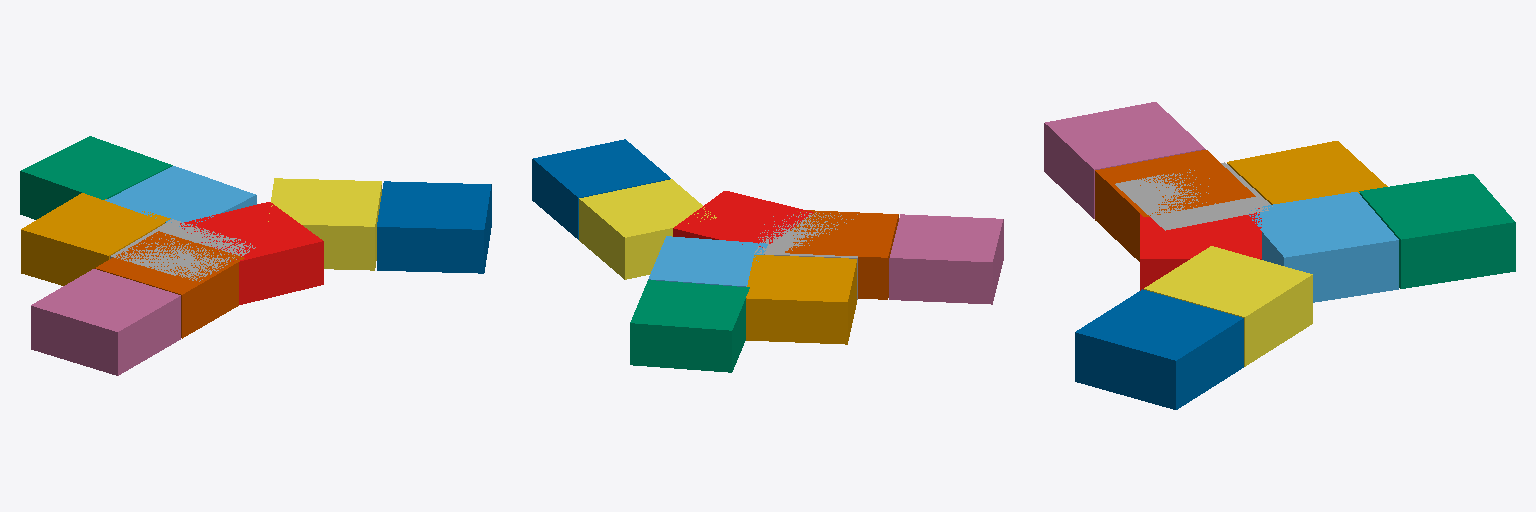
URDF robot description (Model_Models/Model_186.urdf8):
<?xml version='1.0' encoding='UTF-8'?>
<robot name="Model_Models/Model_186.urdf8">
  <link name="base_link">
    <inertial>
      <origin xyz="0.0 0.0 0.0" rpy="0.0 -0.0 0.0"/>
      <mass value="1.0"/>
      <inertia ixx="1.0" ixy="0.0" ixz="0.0" iyy="1.0" iyz="0.0" izz="1.0"/>
    </inertial>
    <visual>
      <geometry>
        <box size="0.67 0.67 0.3 "/>
      </geometry>
      <material name="red"/>
      <origin xyz="0.0 0.0 0.0" rpy="0.0 -0.0 0.0"/>
    </visual>
    <collision>
      <geometry>
        <box size="0.67 0.67 0.3 "/>
      </geometry>
      <origin xyz="0.0 0.0 0.0" rpy="0.0 0.0 0.0"/>
    </collision>
  </link>
  <link name="arm_0_arm1">
    <inertial>
      <origin xyz="0.0 0.34 0.0" rpy="0.0 0.0 0.0"/>
      <mass value="1.0"/>
      <inertia ixx="0.0" ixy="0.0" ixz="0.0" iyy="0.0" iyz="0.0" izz="0.0"/>
    </inertial>
    <visual>
      <geometry>
        <box size="0.67 0.67 0.3 "/>
      </geometry>
      <origin xyz="0.0 0.34 0.0" rpy="0.0 0.0 0.0"/>
    </visual>
    <collision>
      <geometry>
        <box size="0.67 0.67 0.3 "/>
      </geometry>
      <origin xyz="0.0 0.34 0.0" rpy="0.0 0.0 0.0"/>
    </collision>
  </link>
  <link name="arm_0_arm2">
    <inertial>
      <origin xyz="0.0 0.34 0.0" rpy="0.0 0.0 0.0"/>
      <mass value="1.0"/>
      <inertia ixx="0.0" ixy="0.0" ixz="0.0" iyy="0.0" iyz="0.0" izz="0.0"/>
    </inertial>
    <visual>
      <geometry>
        <box size="0.67 0.67 0.3 "/>
      </geometry>
      <origin xyz="0.0 0.34 0.0" rpy="0.0 0.0 0.0"/>
    </visual>
    <collision>
      <geometry>
        <box size="0.67 0.67 0.3 "/>
      </geometry>
      <origin xyz="0.0 0.34 0.0" rpy="0.0 0.0 0.0"/>
    </collision>
  </link>
  <link name="arm_2_arm1">
    <inertial>
      <origin xyz="0.0 0.34 0.0" rpy="0.0 0.0 0.0"/>
      <mass value="1.0"/>
      <inertia ixx="0.0" ixy="0.0" ixz="0.0" iyy="0.0" iyz="0.0" izz="0.0"/>
    </inertial>
    <visual>
      <geometry>
        <box size="0.67 0.67 0.3 "/>
      </geometry>
      <origin xyz="0.0 0.34 0.0" rpy="0.0 0.0 0.0"/>
    </visual>
    <collision>
      <geometry>
        <box size="0.67 0.67 0.3 "/>
      </geometry>
      <origin xyz="0.0 0.34 0.0" rpy="0.0 0.0 0.0"/>
    </collision>
  </link>
  <link name="arm_2_arm2">
    <inertial>
      <origin xyz="0.0 0.34 0.0" rpy="0.0 0.0 0.0"/>
      <mass value="1.0"/>
      <inertia ixx="0.0" ixy="0.0" ixz="0.0" iyy="0.0" iyz="0.0" izz="0.0"/>
    </inertial>
    <visual>
      <geometry>
        <box size="0.67 0.67 0.3 "/>
      </geometry>
      <origin xyz="0.0 0.34 0.0" rpy="0.0 0.0 0.0"/>
    </visual>
    <collision>
      <geometry>
        <box size="0.67 0.67 0.3 "/>
      </geometry>
      <origin xyz="0.0 0.34 0.0" rpy="0.0 0.0 0.0"/>
    </collision>
  </link>
  <link name="arm_3_arm1">
    <inertial>
      <origin xyz="0.0 0.34 0.0" rpy="0.0 0.0 0.0"/>
      <mass value="1.0"/>
      <inertia ixx="0.0" ixy="0.0" ixz="0.0" iyy="0.0" iyz="0.0" izz="0.0"/>
    </inertial>
    <visual>
      <geometry>
        <box size="0.67 0.67 0.3 "/>
      </geometry>
      <origin xyz="0.0 0.34 0.0" rpy="0.0 0.0 0.0"/>
    </visual>
    <collision>
      <geometry>
        <box size="0.67 0.67 0.3 "/>
      </geometry>
      <origin xyz="0.0 0.34 0.0" rpy="0.0 0.0 0.0"/>
    </collision>
  </link>
  <link name="arm_3_arm2">
    <inertial>
      <origin xyz="0.0 0.34 0.0" rpy="0.0 0.0 0.0"/>
      <mass value="1.0"/>
      <inertia ixx="0.0" ixy="0.0" ixz="0.0" iyy="0.0" iyz="0.0" izz="0.0"/>
    </inertial>
    <visual>
      <geometry>
        <box size="0.67 0.67 0.3 "/>
      </geometry>
      <origin xyz="0.0 0.34 0.0" rpy="0.0 0.0 0.0"/>
    </visual>
    <collision>
      <geometry>
        <box size="0.67 0.67 0.3 "/>
      </geometry>
      <origin xyz="0.0 0.34 0.0" rpy="0.0 0.0 0.0"/>
    </collision>
  </link>
  <link name="arm_Permutation_8_arm1">
    <inertial>
      <origin xyz="0.0 0.34 0.0" rpy="0.0 0.0 0.0"/>
      <mass value="1.0"/>
      <inertia ixx="0.0" ixy="0.0" ixz="0.0" iyy="0.0" iyz="0.0" izz="0.0"/>
    </inertial>
    <visual>
      <geometry>
        <box size="0.67 0.67 0.3 "/>
      </geometry>
      <origin xyz="0.0 0.34 0.0" rpy="0.0 0.0 0.0"/>
    </visual>
    <collision>
      <geometry>
        <box size="0.67 0.67 0.3 "/>
      </geometry>
      <origin xyz="0.0 0.34 0.0" rpy="0.0 0.0 0.0"/>
    </collision>
  </link>
  <link name="arm_Permutation_8_arm2">
    <inertial>
      <origin xyz="0.0 0.34 0.0" rpy="0.0 0.0 0.0"/>
      <mass value="1.0"/>
      <inertia ixx="0.0" ixy="0.0" ixz="0.0" iyy="0.0" iyz="0.0" izz="0.0"/>
    </inertial>
    <visual>
      <geometry>
        <box size="0.67 0.67 0.3 "/>
      </geometry>
      <origin xyz="0.0 0.34 0.0" rpy="0.0 0.0 0.0"/>
    </visual>
    <collision>
      <geometry>
        <box size="0.67 0.67 0.3 "/>
      </geometry>
      <origin xyz="0.0 0.34 0.0" rpy="0.0 0.0 0.0"/>
    </collision>
  </link>
  <joint name="arm_0_jointBase" type="fixed">
    <limit effort="1.57" velocity="1.57" lower="-1.57" upper="1.57"/>
    <parent link="base_link"/>
    <child link="arm_0_arm1"/>
    <axis xyz="1. 0. 0."/>
    <origin xyz="0.0 0.34 0.0" rpy="0.0 0.0 0.35"/>
  </joint>
  <joint name="arm_0_joint1" type="revolute">
    <limit effort="1.57" velocity="1.57" lower="-1.57" upper="1.57"/>
    <parent link="arm_0_arm1"/>
    <child link="arm_0_arm2"/>
    <axis xyz="1. 0. 0."/>
    <origin xyz="0.0 0.68 0.0" rpy="0.0 0.0 0.0"/>
  </joint>
  <joint name="arm_2_jointBase" type="fixed">
    <limit effort="1.57" velocity="1.57" lower="-1.57" upper="1.57"/>
    <parent link="base_link"/>
    <child link="arm_2_arm1"/>
    <axis xyz="1. 0. 0."/>
    <origin xyz="0.34 0.34 0.0" rpy="0.0 0.0 -2.16"/>
  </joint>
  <joint name="arm_2_joint1" type="revolute">
    <limit effort="1.57" velocity="1.57" lower="-1.57" upper="1.57"/>
    <parent link="arm_2_arm1"/>
    <child link="arm_2_arm2"/>
    <axis xyz="1. 0. 0."/>
    <origin xyz="0.0 0.68 0.0" rpy="0.0 0.0 0.0"/>
  </joint>
  <joint name="arm_3_jointBase" type="fixed">
    <limit effort="1.57" velocity="1.57" lower="-1.57" upper="1.57"/>
    <parent link="base_link"/>
    <child link="arm_3_arm1"/>
    <axis xyz="1. 0. 0."/>
    <origin xyz="-0.34 0.0 0.0" rpy="0.0 0.0 1.99"/>
  </joint>
  <joint name="arm_3_joint1" type="revolute">
    <limit effort="1.57" velocity="1.57" lower="-1.57" upper="1.57"/>
    <parent link="arm_3_arm1"/>
    <child link="arm_3_arm2"/>
    <axis xyz="1. 0. 0."/>
    <origin xyz="0.0 0.68 0.0" rpy="0.0 0.0 0.0"/>
  </joint>
  <joint name="arm_Permutation_8_jointBase" type="fixed">
    <limit effort="1.57" velocity="1.57" lower="-1.57" upper="1.57"/>
    <parent link="base_link"/>
    <child link="arm_Permutation_8_arm1"/>
    <axis xyz="1. 0. 0."/>
    <origin xyz="-0.34 -0.34 0.0" rpy="0.0 0.0 0.43"/>
  </joint>
  <joint name="arm_Permutation_8_joint1" type="revolute">
    <limit effort="1.57" velocity="1.57" lower="-1.57" upper="1.57"/>
    <parent link="arm_Permutation_8_arm1"/>
    <child link="arm_Permutation_8_arm2"/>
    <axis xyz="1. 0. 0."/>
    <origin xyz="0.0 0.68 0.0" rpy="0.0 0.0 0.0"/>
  </joint>
  <material name="red">
    <color rgba="0.969 0.129 0.122 1.   "/>
  </material>
</robot>

--- Render facts (derived) ---
3 views of the same robot in one strip: view 1: azimuth 30°, elevation 25°; view 2: azimuth 150°, elevation 25°; view 3: azimuth 270°, elevation 25° (orthographic).
Model Model_Models/Model_186.urdf8 with 9 links and 8 joints (4 revolute, 4 fixed), rooted at base_link, posed every joint at zero.
Links seen in each view (by area): view 1: arm_3_arm2, arm_2_arm2, arm_Permutation_8_arm2, base_link, arm_2_arm1, arm_0_arm2, arm_3_arm1, arm_0_arm1, arm_Permutation_8_arm1; view 2: arm_0_arm2, arm_3_arm2, arm_Permutation_8_arm2, arm_2_arm1, arm_2_arm2, arm_3_arm1, arm_0_arm1, base_link, arm_Permutation_8_arm1; view 3: arm_2_arm2, arm_0_arm2, arm_0_arm1, arm_2_arm1, arm_3_arm2, arm_3_arm1, arm_Permutation_8_arm2, base_link, arm_Permutation_8_arm1.
Boxes of the visible links, x1,y1,x2,y2 form: arm_3_arm2: [31, 269, 180, 375]; arm_2_arm2: [377, 181, 491, 273]; arm_Permutation_8_arm2: [21, 193, 170, 285]; base_link: [180, 202, 323, 304]; arm_2_arm1: [268, 178, 381, 270]; arm_0_arm2: [20, 136, 172, 219]; arm_3_arm1: [95, 231, 244, 338]; arm_0_arm1: [105, 166, 256, 228]; arm_Permutation_8_arm1: [110, 219, 255, 281]; arm_0_arm2: [630, 280, 749, 372]; arm_3_arm2: [889, 214, 1003, 304]; arm_Permutation_8_arm2: [746, 255, 856, 344]; arm_2_arm1: [579, 179, 716, 279]; arm_2_arm2: [532, 139, 670, 239]; arm_3_arm1: [785, 210, 898, 299]; arm_0_arm1: [648, 236, 767, 286]; base_link: [673, 191, 813, 247]; arm_Permutation_8_arm1: [754, 212, 857, 299]; arm_2_arm2: [1075, 289, 1243, 409]; arm_0_arm2: [1359, 174, 1515, 288]; arm_0_arm1: [1249, 192, 1398, 302]; arm_2_arm1: [1144, 246, 1312, 366]; arm_3_arm2: [1044, 102, 1205, 218]; arm_3_arm1: [1095, 150, 1255, 261]; arm_Permutation_8_arm2: [1227, 141, 1387, 204]; base_link: [1140, 208, 1261, 290]; arm_Permutation_8_arm1: [1115, 162, 1272, 230].
Size in the robot's own frame: 3.37 by 2.59 by 0.3 metres.
Geometry: primitives only (box / cylinder / sphere), no mesh files.